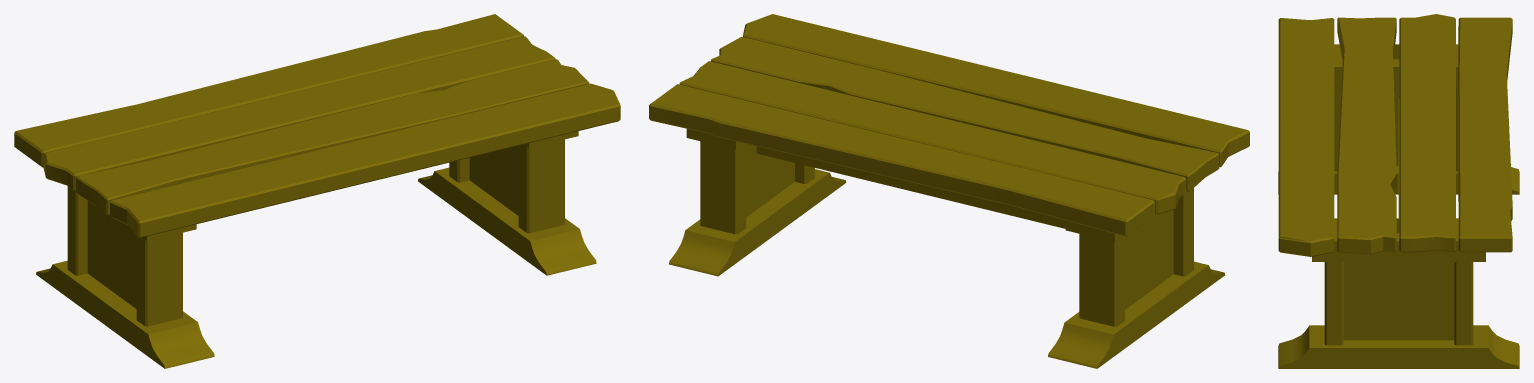
File: Table.fbx
3 renders of one model, left to right at view 1: azimuth 30°, elevation 25°; view 2: azimuth 150°, elevation 25°; view 3: azimuth 270°, elevation 25°, orthographic. The views are drawn at different scales.
Visible parts, largest first — view 1: pCube554, pCube553, pCube552, pCube548, pCube564, pCube557, pCube561, pCube556, pCube562, pCube546, pCube563; view 2: pCube548, pCube554, pCube553, pCube552, pCube557, pCube564, pCube555, pCube563, pCube562, pCube559, pCube546, pCube561 (+2 smaller); view 3: pCube553, pCube554, pCube552, pCube548, pCube546, pCube557, pCube558, pCube555, pCube556, pCube560, pCube564, pCube561 (+3 smaller).
Boxes of the visible parts, <box> form: pCube554: <box>110,83,620,237</box>; pCube553: <box>76,59,589,215</box>; pCube552: <box>43,36,555,190</box>; pCube548: <box>14,14,523,167</box>; pCube564: <box>36,260,214,368</box>; pCube557: <box>418,167,596,275</box>; pCube561: <box>136,232,182,326</box>; pCube556: <box>518,139,564,233</box>; pCube562: <box>87,201,136,308</box>; pCube546: <box>469,146,518,215</box>; pCube563: <box>67,186,87,275</box>; pCube548: <box>649,84,1154,236</box>; pCube554: <box>743,14,1249,167</box>; pCube553: <box>711,36,1219,191</box>; pCube552: <box>679,61,1186,214</box>; pCube557: <box>669,169,846,276</box>; pCube564: <box>1048,261,1224,368</box>; pCube555: <box>700,141,746,234</box>; pCube563: <box>1079,234,1124,326</box>; pCube562: <box>1125,210,1173,309</box>; pCube559: <box>756,146,1065,228</box>; pCube546: <box>746,144,794,216</box>; pCube561: <box>1173,188,1193,276</box>; pCube553: <box>1337,17,1396,254</box>; pCube554: <box>1278,18,1334,256</box>; pCube552: <box>1399,14,1455,252</box>; pCube548: <box>1458,17,1512,252</box>; pCube546: <box>1343,219,1454,340</box>; pCube557: <box>1278,325,1519,368</box>; pCube558: <box>1312,218,1485,261</box>; pCube555: <box>1454,262,1473,345</box>; pCube556: <box>1324,262,1343,345</box>; pCube560: <box>1334,44,1458,87</box>; pCube564: <box>1278,166,1519,194</box>; pCube561: <box>1334,87,1341,171</box>.
Bounding box in the file's own units: 4.04 × 1.18 × 1.8.
